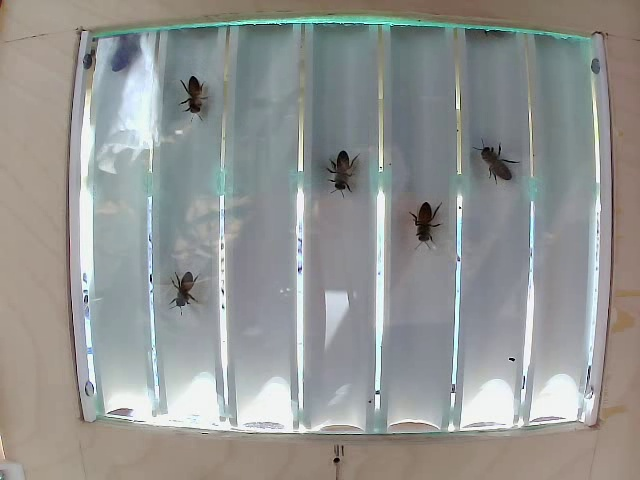bee: (103, 33, 151, 78), (166, 264, 212, 310), (321, 155, 361, 207), (413, 191, 453, 239), (176, 80, 215, 117), (479, 136, 510, 178)
